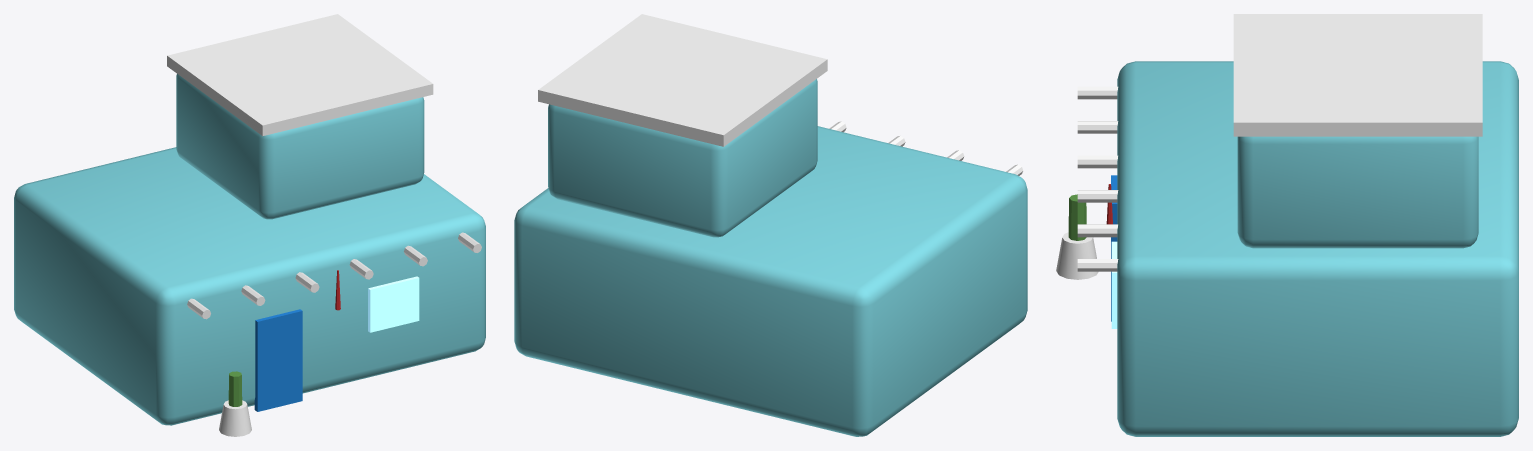
File: journey_adobe.glb
3 views of the same model, side by side, from view 1: azimuth 30°, elevation 25°; view 2: azimuth 150°, elevation 25°; view 3: azimuth 270°, elevation 25° (orthographic). The views are drawn at different scales.
Parts seen in each view (by area): view 1: Adobe_body; view 2: Adobe_body; view 3: Adobe_body.
Boxes of the visible parts, x1,y1,x2,y2 form: Adobe_body: (14, 14, 485, 436); Adobe_body: (514, 14, 1027, 436); Adobe_body: (1056, 14, 1518, 436).
Bounding box in the file's own units: 8 × 5.57 × 7.49.
